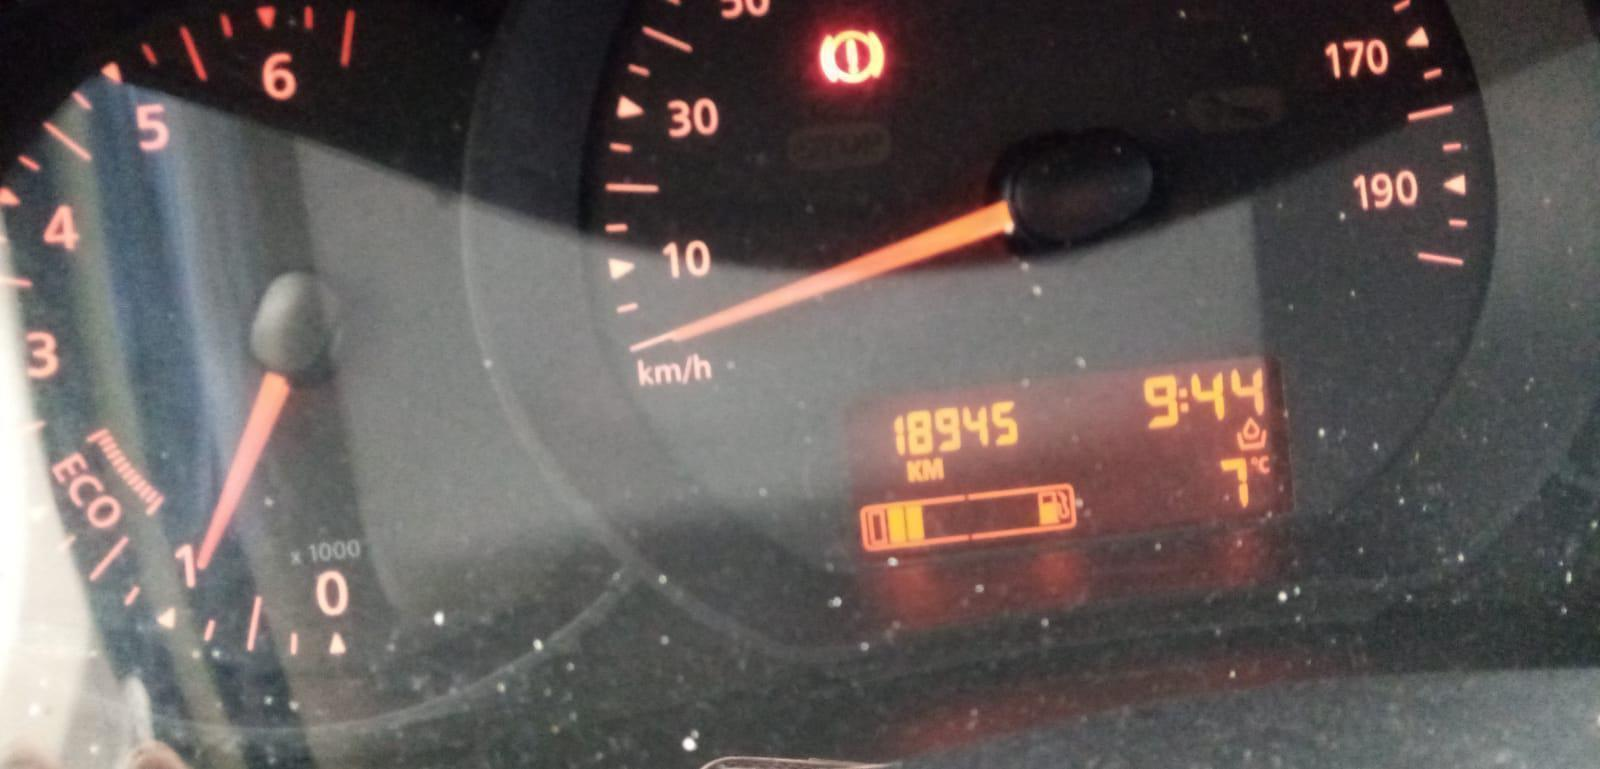1: (889, 410, 906, 457)
4: (1190, 367, 1227, 422), (1231, 363, 1267, 416), (960, 400, 988, 449)
5: (993, 396, 1020, 444)
7: (1218, 454, 1249, 510)
8: (907, 410, 932, 456)
9: (1139, 372, 1178, 433), (935, 405, 959, 454)
X: (921, 457, 944, 481), (904, 458, 921, 483), (1177, 385, 1188, 419), (1258, 454, 1272, 477)
odometer: (827, 346, 1308, 575)
